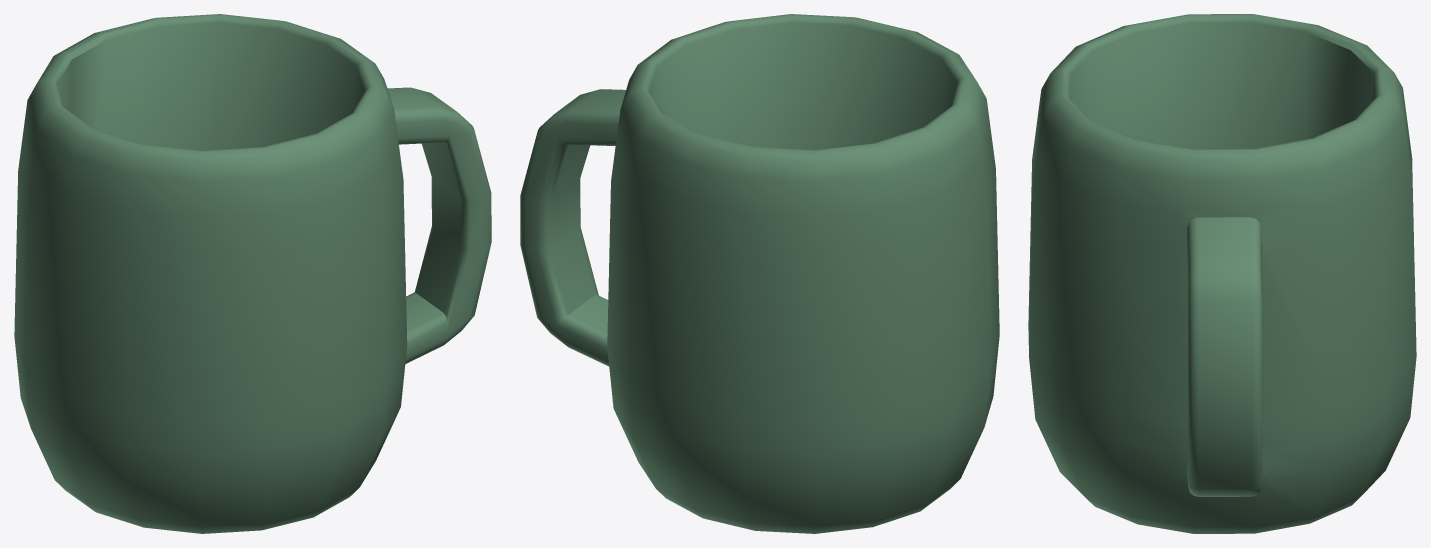
The model's file is Taza.fbx.
The picture shows the model from 3 angles, left to right: view 1: azimuth 30°, elevation 25°; view 2: azimuth 150°, elevation 25°; view 3: azimuth 270°, elevation 25°; orthographic projection.
Parts seen in each view (by area): view 1: Taza; view 2: Taza; view 3: Taza.
Part boxes in pixels (x1,y1,x2,y2): Taza: (14,14,491,533); Taza: (520,14,999,533); Taza: (1028,14,1416,533).
Size of the model in its own units: 79.22 by 69.07 by 61.
